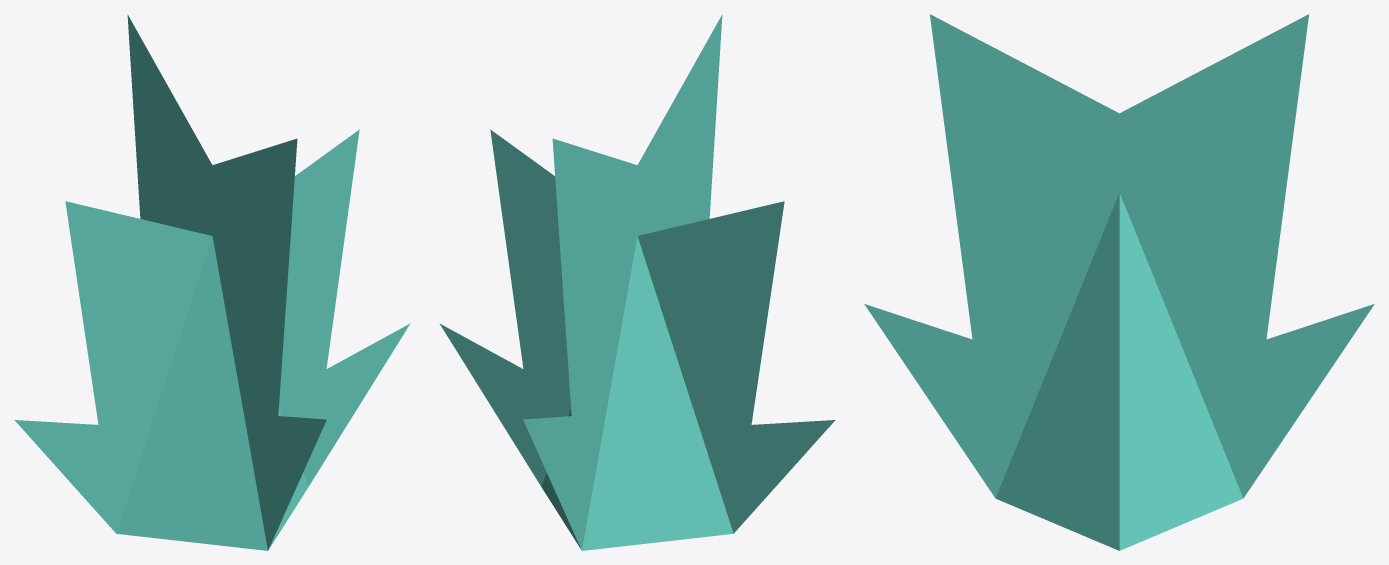
The model's file is plant_flatTall.gltf.
3 views of the same model, side by side, from view 1: azimuth 30°, elevation 25°; view 2: azimuth 150°, elevation 25°; view 3: azimuth 270°, elevation 25° (orthographic). The views are drawn at different scales.
Visible parts, largest first — view 1: plant_flatTall; view 2: plant_flatTall; view 3: plant_flatTall.
Boxes of the visible parts, left/top/right/bottom form: plant_flatTall: left=14, top=15, right=410, bottom=550; plant_flatTall: left=439, top=15, right=835, bottom=550; plant_flatTall: left=864, top=14, right=1374, bottom=550.
Size of the model in its own units: 0.2717 by 0.2843 by 0.2717.
